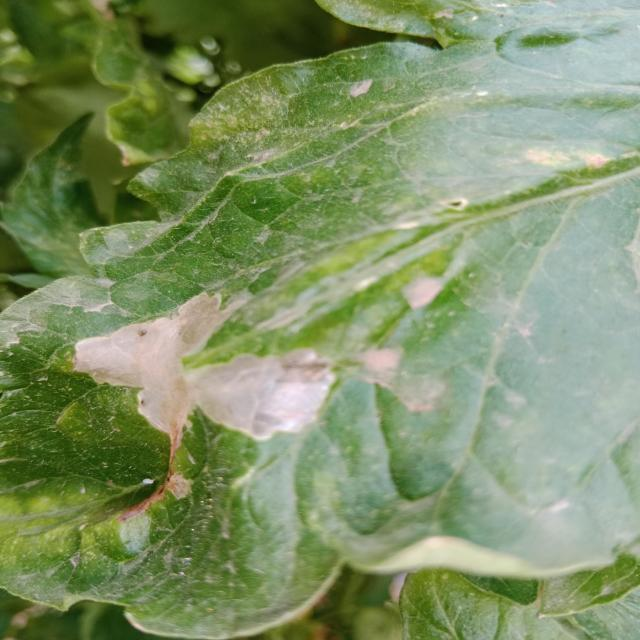Tuta absoluta: (65, 259, 349, 499)
